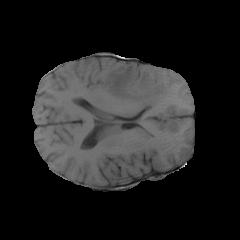glioma: (102, 62, 169, 110)
